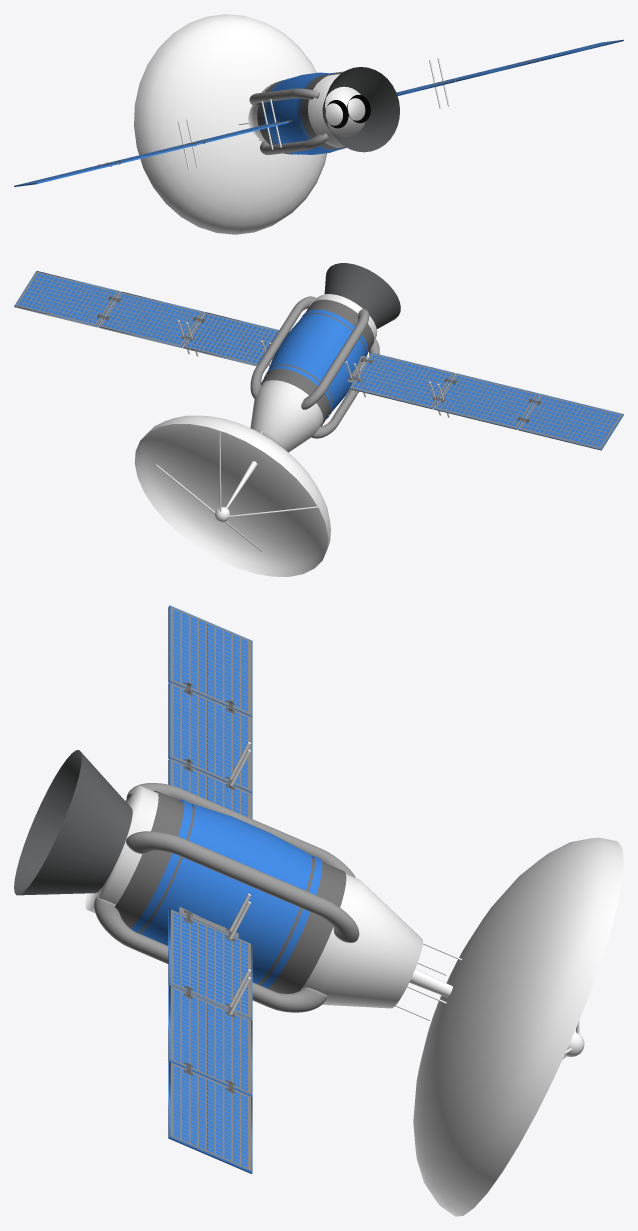
3 renders of one model, top to bottom at view 1: azimuth 30°, elevation 25°; view 2: azimuth 150°, elevation 25°; view 3: azimuth 270°, elevation 25°, orthographic. The views are drawn at different scales.
Visible parts, largest first — view 1: antena, Cylinder.004, badan satelit, badan satelit.002, Cylinder, badan satelit.001, Cube.002, sayap, Cube.011, sayap.001; view 2: antena, sayap, sayap.001, badan satelit.002, badan satelit, Cylinder, Cylinder.004, Cube.005, Cube.007, Cube.004, Cube.010, Cube.006 (+4 smaller); view 3: antena, badan satelit.002, badan satelit, Cylinder.004, sayap.001, Cylinder, sayap, badan satelit.001, Cube.007, Cube.005, Cube.010, Cube.004 (+4 smaller).
Part boxes in pixels (bbox=[...]): antena: bbox=[134, 14, 326, 234]; Cylinder.004: bbox=[322, 67, 399, 152]; badan satelit: bbox=[248, 74, 365, 153]; badan satelit.002: bbox=[263, 72, 346, 154]; Cylinder: bbox=[249, 71, 344, 154]; badan satelit.001: bbox=[257, 73, 346, 154]; Cube.002: bbox=[14, 121, 288, 186]; sayap: bbox=[17, 122, 285, 185]; Cube.011: bbox=[397, 39, 623, 95]; sayap.001: bbox=[397, 40, 621, 94]; antena: bbox=[134, 415, 330, 576]; sayap: bbox=[349, 353, 622, 450]; sayap.001: bbox=[14, 271, 278, 368]; badan satelit.002: bbox=[264, 309, 368, 418]; badan satelit: bbox=[250, 294, 377, 452]; Cylinder: bbox=[250, 296, 379, 438]; Cylinder.004: bbox=[324, 263, 400, 328]; Cube.005: bbox=[18, 273, 115, 323]; Cube.007: bbox=[522, 396, 619, 446]; Cube.004: bbox=[437, 375, 534, 426]; Cube.010: bbox=[102, 294, 199, 344]; Cube.006: bbox=[353, 355, 450, 405]; antena: bbox=[413, 837, 623, 1216]; badan satelit.002: bbox=[131, 799, 322, 988]; badan satelit: bbox=[85, 786, 422, 1008]; Cylinder.004: bbox=[14, 750, 132, 895]; sayap.001: bbox=[169, 910, 252, 1171]; Cylinder: bbox=[94, 783, 359, 1012]; sayap: bbox=[169, 606, 252, 818]; badan satelit.001: bbox=[115, 790, 346, 993]; Cube.007: bbox=[173, 609, 247, 711]; Cube.005: bbox=[173, 1066, 247, 1167]; Cube.010: bbox=[173, 989, 247, 1091]; Cube.004: bbox=[173, 686, 247, 787].
Size of the model in its own units: 27.39 by 10.56 by 13.29.
